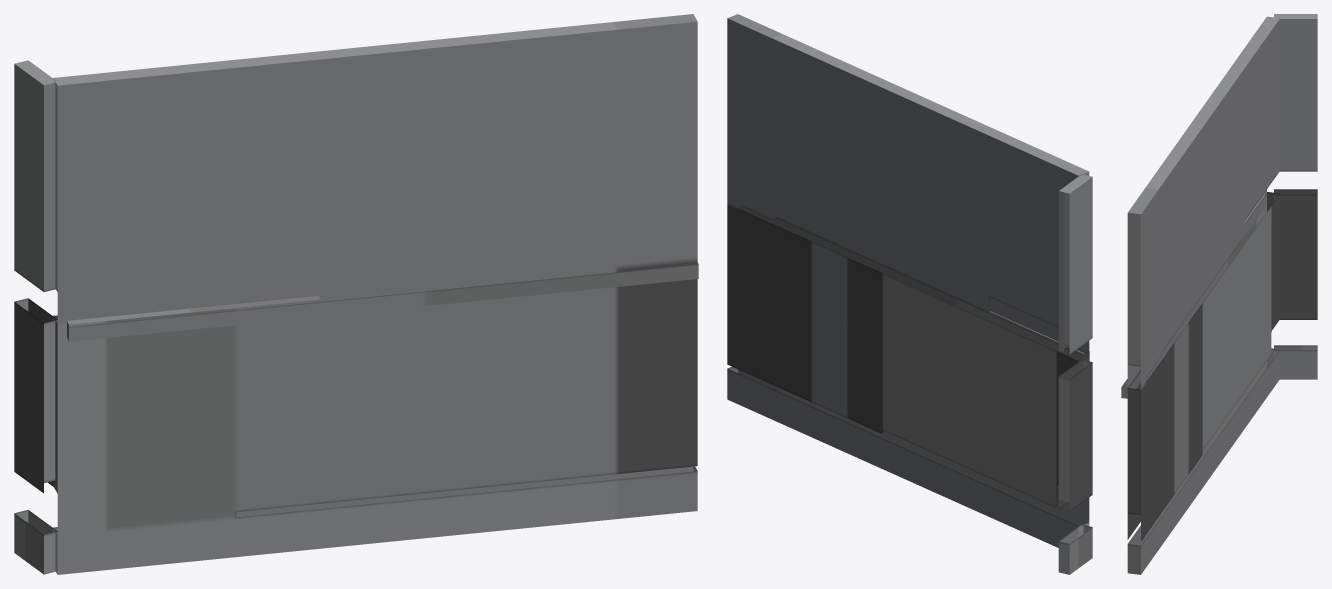
The picture shows the model from 3 angles, left to right: view 1: azimuth 30°, elevation 25°; view 2: azimuth 150°, elevation 25°; view 3: azimuth 270°, elevation 25°; orthographic projection. The views are drawn at different scales.
Bounding box in the file's own units: 1.2 × 1.01 × 0.4952.
